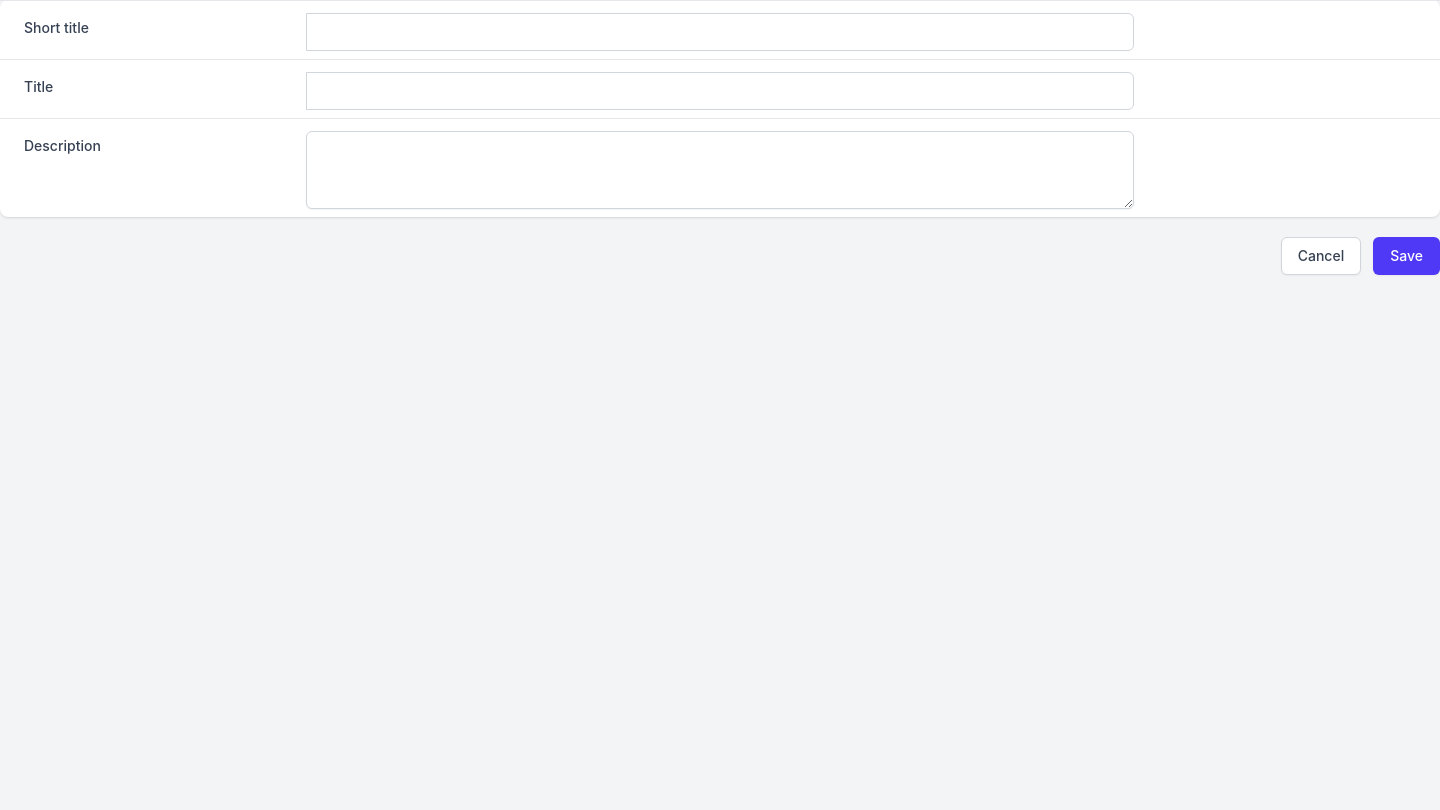
it: AddEditObjectPage › Create mode › opens cancel dialog when Cancel is clicked
Click the button "Cancel". click: (1321, 256)
box: [1281,237,1361,275]
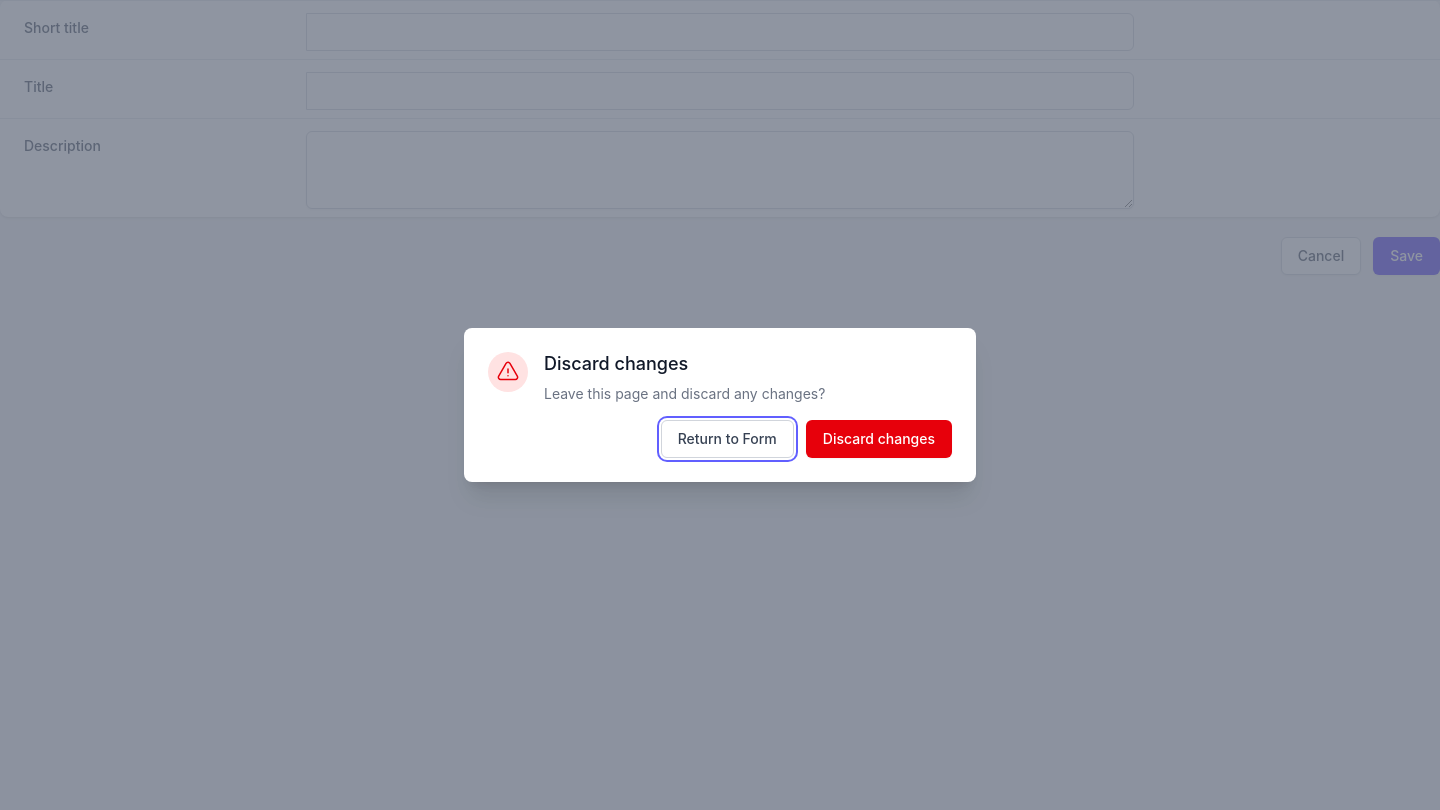
Expected: the text "Leave this page and discard any changes?" is shown, [544,384,825,404]
Expected: the number of headings "Discard changes" is 2, [544,353,688,374]; [806,420,952,458]
